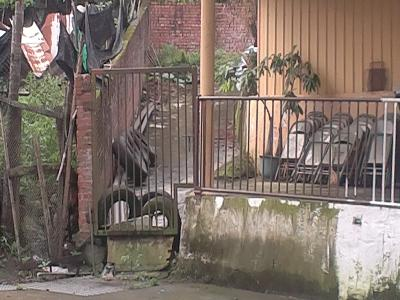plastic_bag: (15, 3, 85, 80), (73, 1, 130, 71)
tire: (98, 183, 141, 230), (112, 136, 148, 185)
